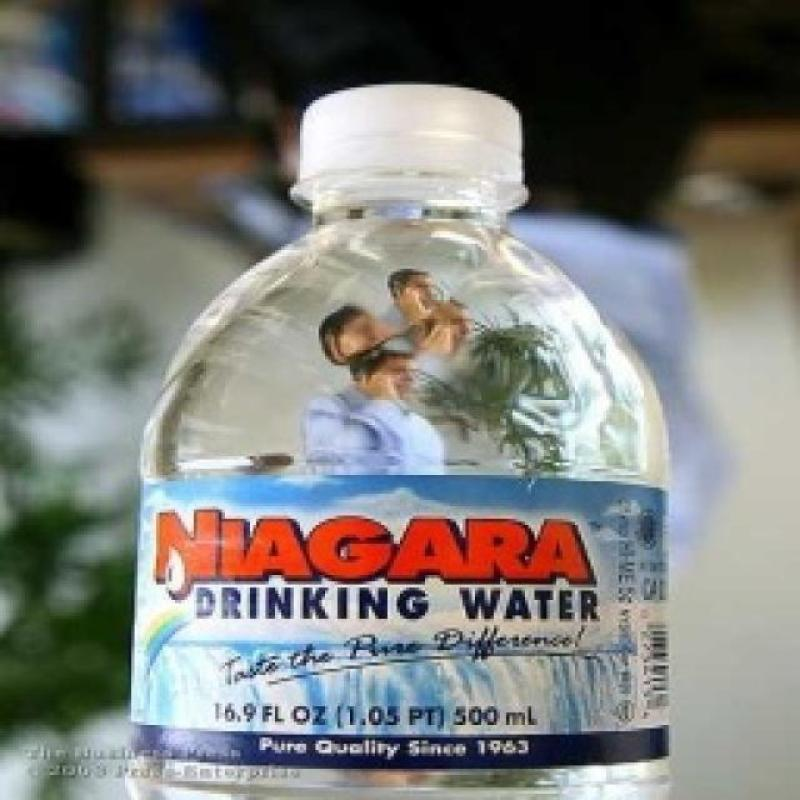botella: (122, 77, 676, 800)
